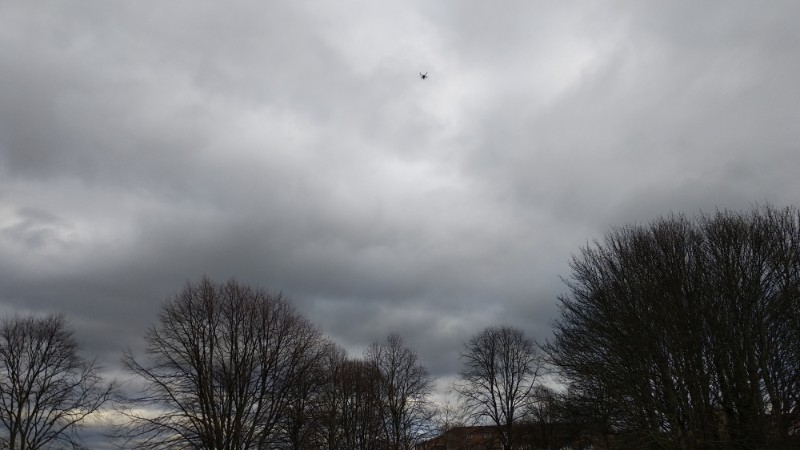drone: (419, 71, 429, 81)
